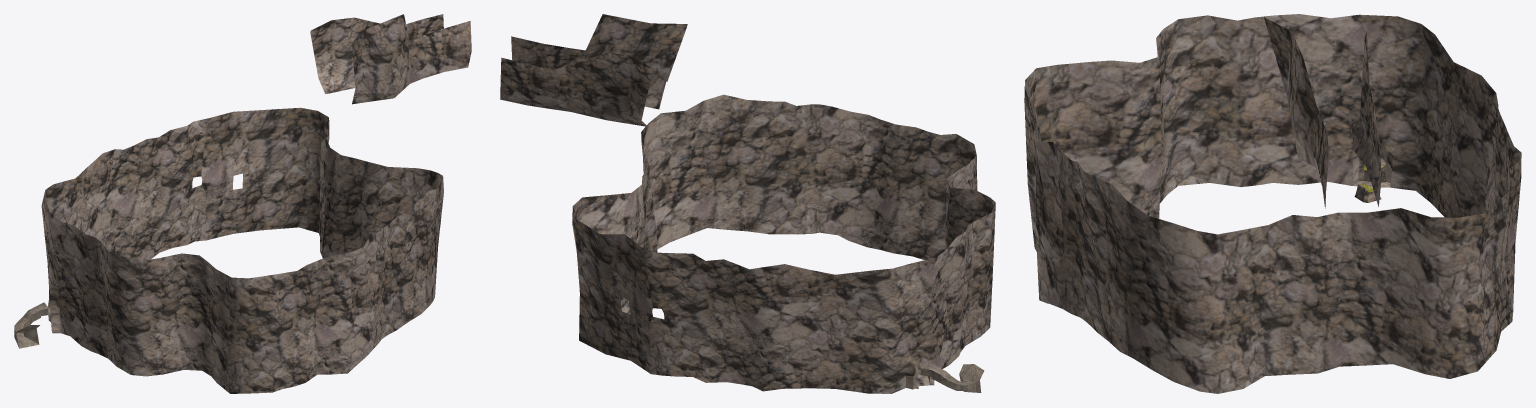
The model's file is pitregularwallV2.fbx.
3 renders of one model, left to right at view 1: azimuth 30°, elevation 25°; view 2: azimuth 150°, elevation 25°; view 3: azimuth 270°, elevation 25°, orthographic. The views are drawn at different scales.
Visible parts, largest first — view 1: pitregularwall, pitwalltobeach; view 2: pitregularwall, pitwalltobeach; view 3: pitregularwall.
Part boxes in pixels (left/top/right/bottom): pitregularwall: left=41, top=14, right=471, bottom=393; pitwalltobeach: left=14, top=302, right=48, bottom=348; pitregularwall: left=500, top=14, right=995, bottom=393; pitwalltobeach: left=920, top=363, right=984, bottom=392; pitregularwall: left=1024, top=14, right=1521, bottom=393.
Bounding box in the file's own units: 9475 × 5199 × 6635.
